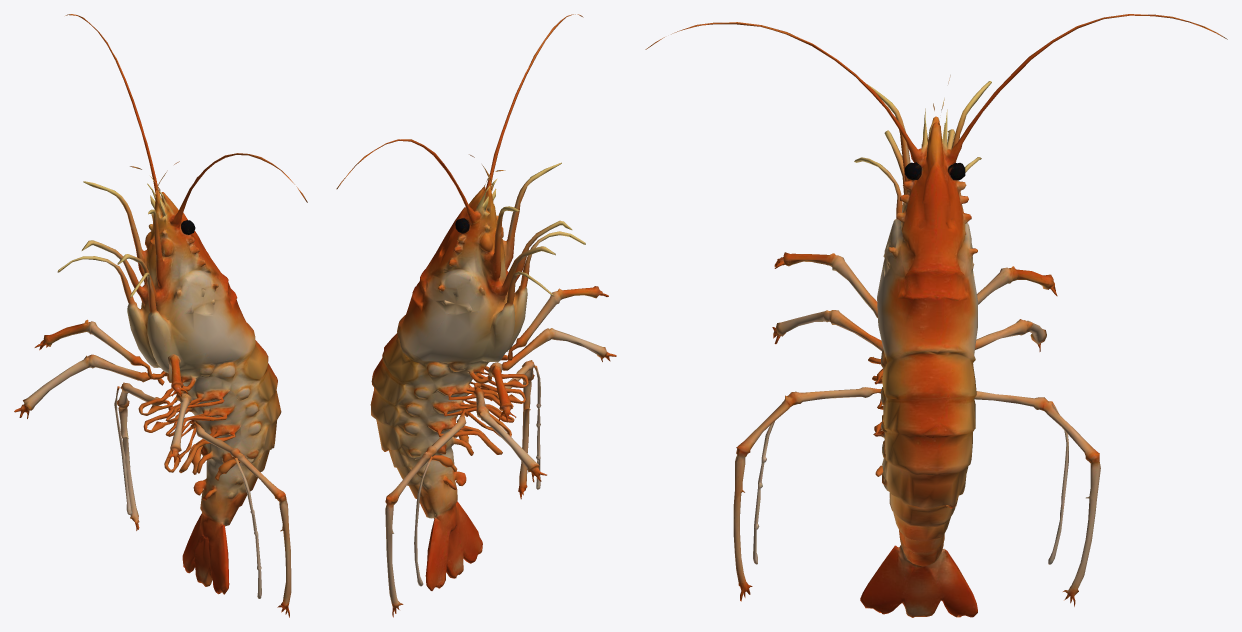
The model's file is prawn.glb.
3 views of the same model, side by side, from view 1: azimuth 30°, elevation 25°; view 2: azimuth 150°, elevation 25°; view 3: azimuth 270°, elevation 25° (orthographic). The views are drawn at different scales.
Visible parts, largest first — view 1: tripo_node_904d4d66-bd90-4b1b-a323-b4766e4fdc1f; view 2: tripo_node_904d4d66-bd90-4b1b-a323-b4766e4fdc1f; view 3: tripo_node_904d4d66-bd90-4b1b-a323-b4766e4fdc1f.
Part boxes in pixels (x1,y1,x2,y2): tripo_node_904d4d66-bd90-4b1b-a323-b4766e4fdc1f: (14,14,307,617); tripo_node_904d4d66-bd90-4b1b-a323-b4766e4fdc1f: (336,14,616,617); tripo_node_904d4d66-bd90-4b1b-a323-b4766e4fdc1f: (645,14,1227,617).
Bounding box in the file's own units: 0.4551 × 0.998 × 0.8887.
Materials: 1 (1 with a texture image).
